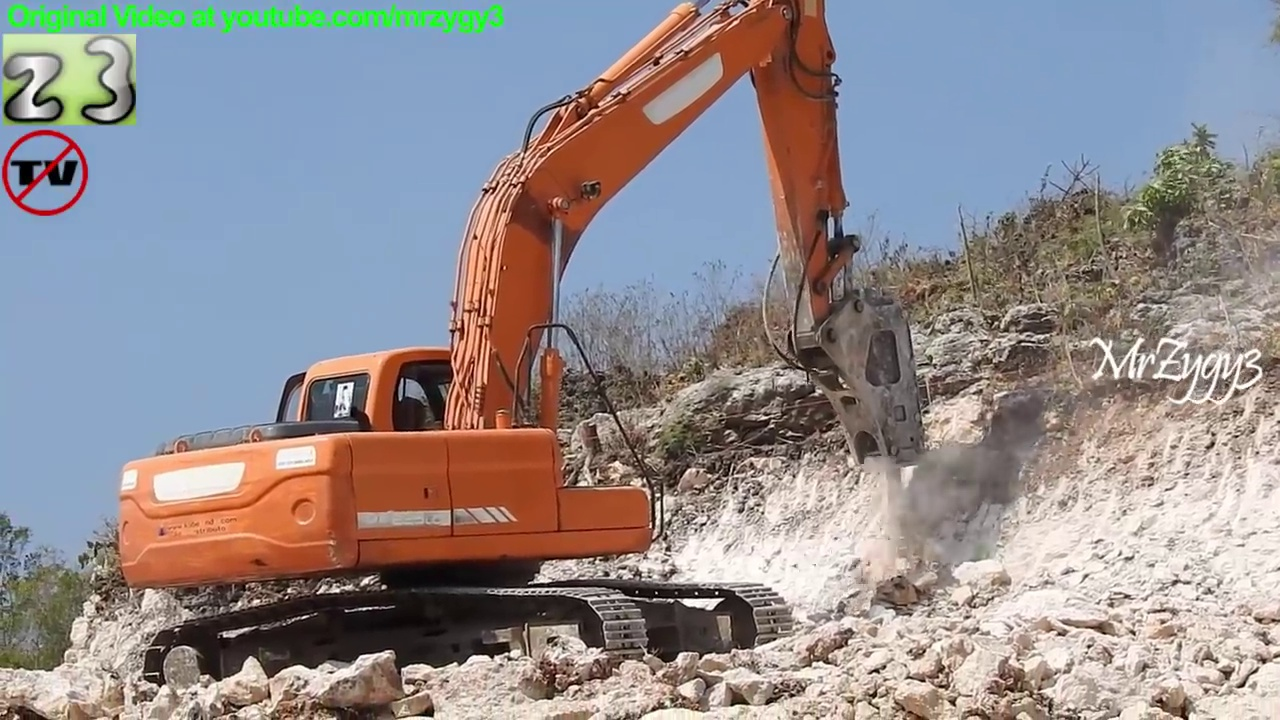excavator breaker: (110, 1, 926, 700)
